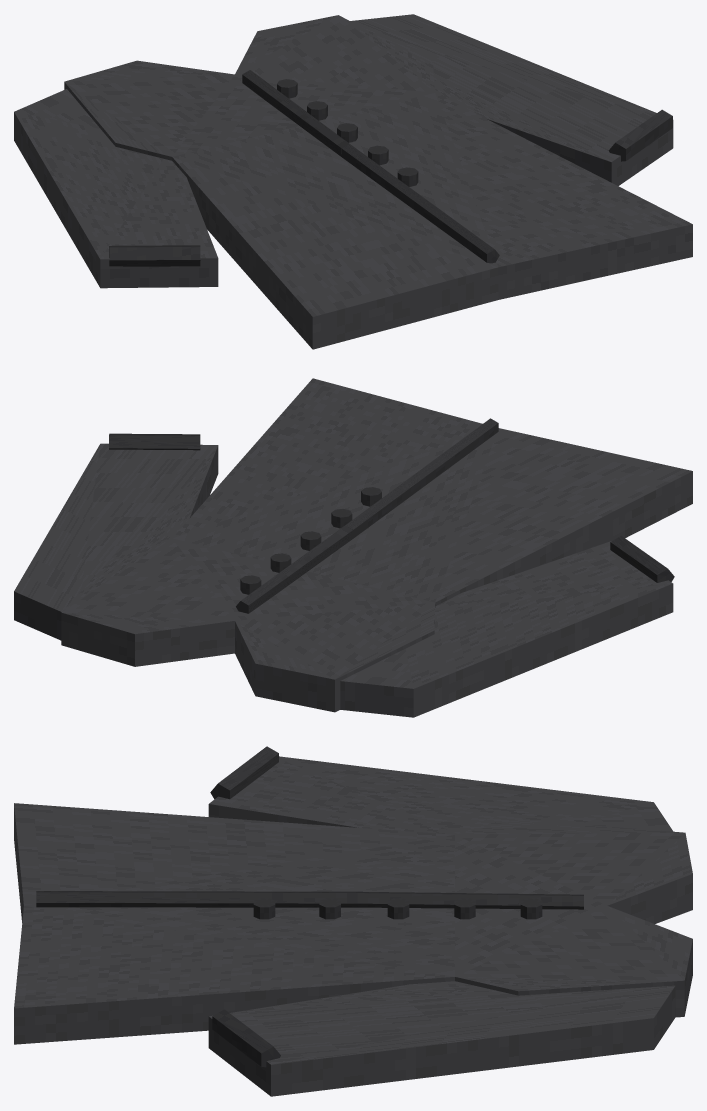
File: plaguedoctor_robe.glb
3 renders of one model, top to bottom at view 1: azimuth 30°, elevation 25°; view 2: azimuth 150°, elevation 25°; view 3: azimuth 270°, elevation 25°, orthographic. The views are drawn at different scales.
Visible parts, largest first — view 1: block_garment body, block_sleeve (×2), block_cuff 0 (×2), block_front closure 1, block_front closure 0; view 2: block_garment body, block_sleeve (×2), block_front closure 1, block_cuff 0 (×2), block_front closure 0; view 3: block_garment body, block_sleeve (×2), block_front closure 1, block_cuff 0 (×2), block_front closure 0.
Part boxes in pixels (<box>): block_garment body: <box>64,15,692,349</box>; block_sleeve (×2): <box>14,14,673,288</box>; block_cuff 0 (×2): <box>109,109,672,266</box>; block_front closure 1: <box>342,144,499,263</box>; block_front closure 0: <box>242,70,349,156</box>; block_garment body: <box>61,378,692,712</box>; block_sleeve (×2): <box>14,443,673,717</box>; block_front closure 1: <box>345,418,498,538</box>; block_cuff 0 (×2): <box>109,433,674,582</box>; block_front closure 0: <box>236,525,353,613</box>; block_garment body: <box>14,803,692,1044</box>; block_sleeve (×2): <box>208,756,675,1096</box>; block_front closure 1: <box>36,891,357,907</box>; block_cuff 0 (×2): <box>210,746,280,1067</box>; block_front closure 0: <box>357,891,583,909</box>.
Bounding box in the file's own units: 0.802 × 0.0615 × 0.7437.
Materials: 1 (1 with a texture image).
